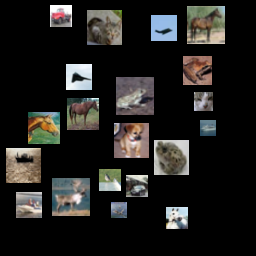airplane: (66, 64, 92, 90), (151, 15, 177, 41), (111, 202, 127, 218)
automobile: (126, 175, 148, 197)
bird: (99, 169, 121, 191)
cat: (87, 10, 122, 45), (194, 92, 213, 111)
deer: (52, 178, 90, 216)
dog: (114, 123, 149, 158)
frog: (116, 77, 154, 115), (154, 140, 189, 175), (183, 56, 212, 85)
ship: (6, 148, 41, 183), (16, 192, 42, 218), (200, 120, 216, 136)
